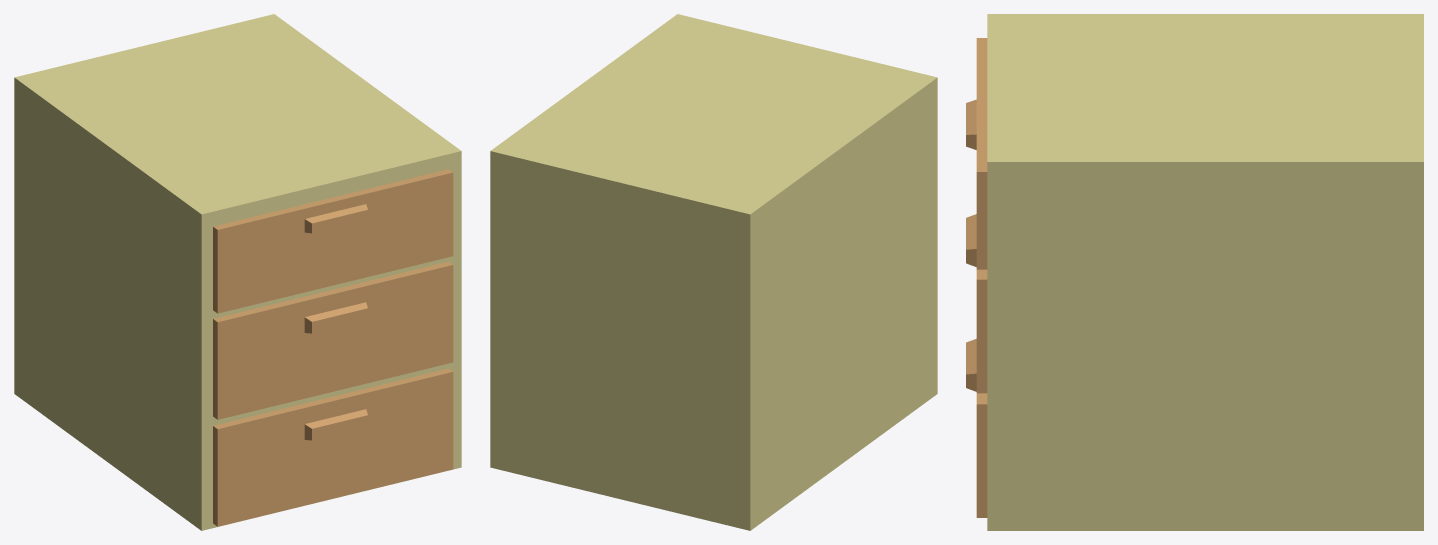
Rendered from DeskBank_03.fbx.
3 views of the same model, side by side, from view 1: azimuth 30°, elevation 25°; view 2: azimuth 150°, elevation 25°; view 3: azimuth 270°, elevation 25° (orthographic). The views are drawn at different scales.
Parts seen in each view (by area): view 1: SM_Prop_Drawers_01; view 2: SM_Prop_Drawers_01; view 3: SM_Prop_Drawers_01.
Boxes of the visible parts, x1,y1,x2,y2 form: SM_Prop_Drawers_01: (14,14,461,530); SM_Prop_Drawers_01: (490,14,937,530); SM_Prop_Drawers_01: (966,14,1423,530).
Bounding box in the file's own units: 0.6506 × 0.7568 × 0.851.
